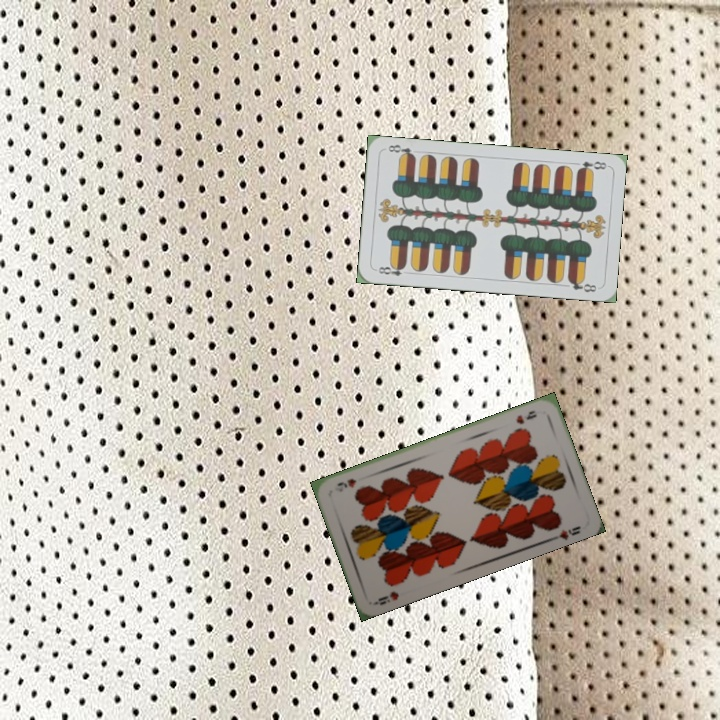E8: (372, 261, 408, 279), (573, 157, 609, 175)
H9: (370, 587, 401, 607), (512, 406, 540, 427)
